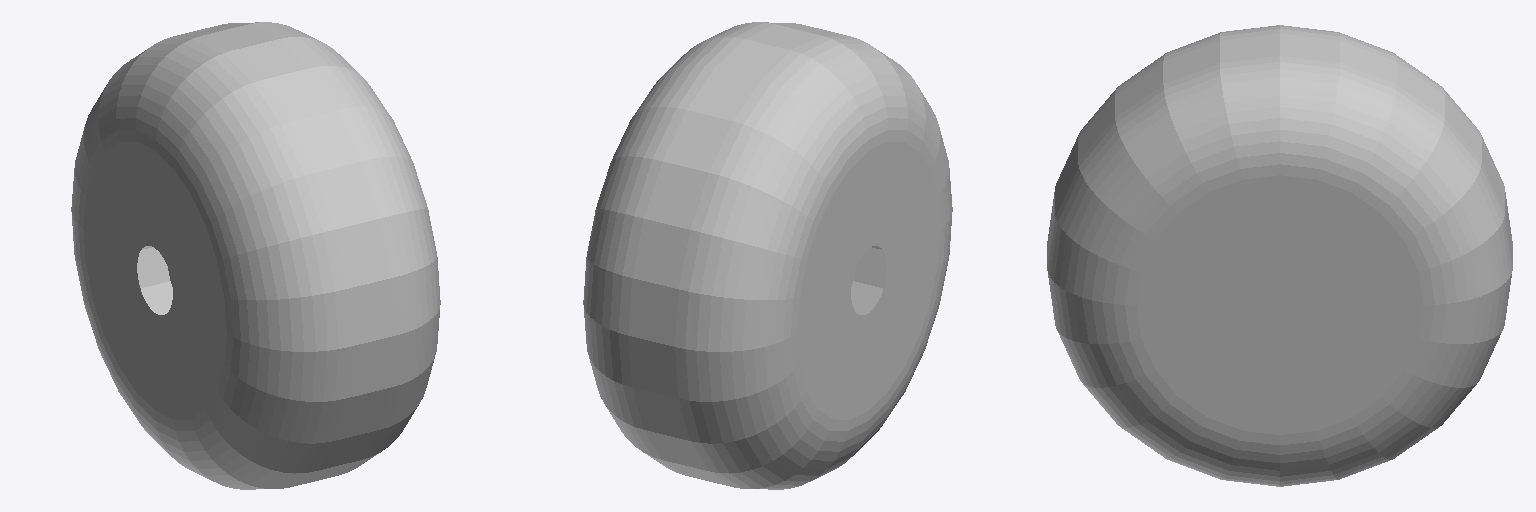
File: original-95.obj
3 renders of one model, left to right at view 1: azimuth 30°, elevation 25°; view 2: azimuth 150°, elevation 25°; view 3: azimuth 270°, elevation 25°, orthographic.
Visible parts, largest first — view 1: #ID615; view 2: #ID615; view 3: #ID615.
Part boxes in pixels (bbox=[...]): #ID615: bbox=[71, 22, 440, 489]; #ID615: bbox=[583, 22, 952, 489]; #ID615: bbox=[1047, 25, 1512, 486].
Size of the model in its own units: 0.0196 by 0.0391 by 0.0391.